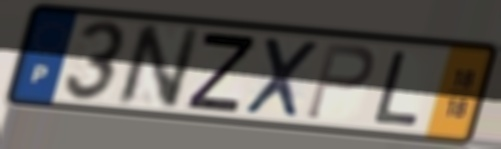3: (61, 19, 131, 104)
L: (370, 48, 424, 129)
N: (113, 22, 205, 111)
P: (302, 40, 378, 123)
X: (241, 33, 323, 121)
Z: (184, 29, 260, 115)
